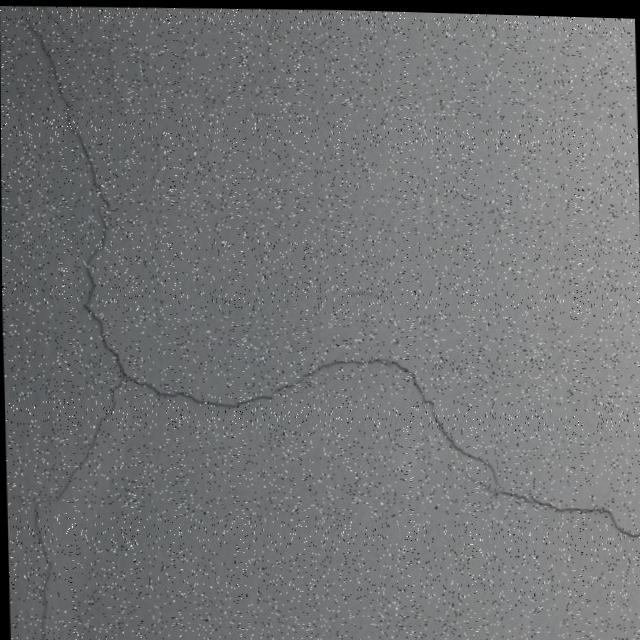Crack: (129, 332, 640, 554), (12, 4, 133, 373), (13, 376, 132, 640)
